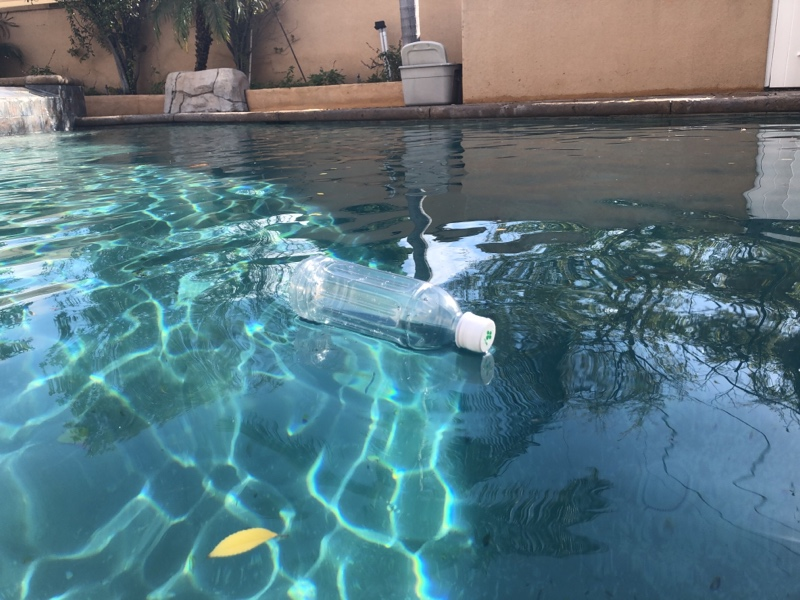Plastic Bottle: (284, 253, 498, 358)
